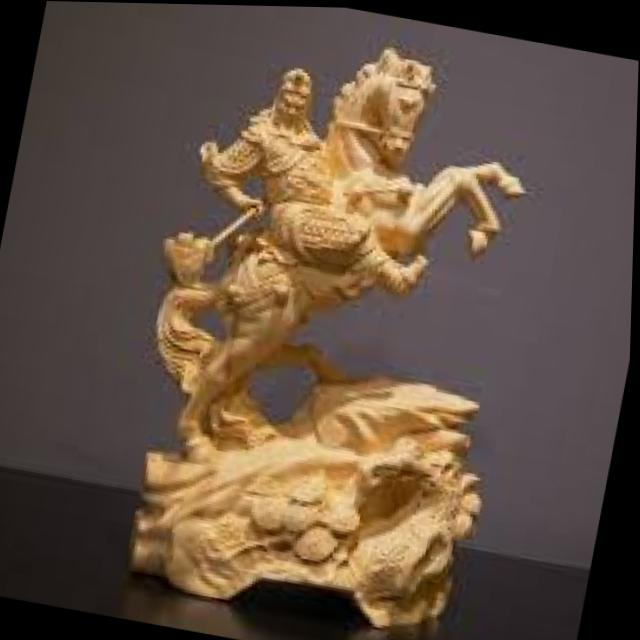Guan Yu: (193, 46, 342, 233)
